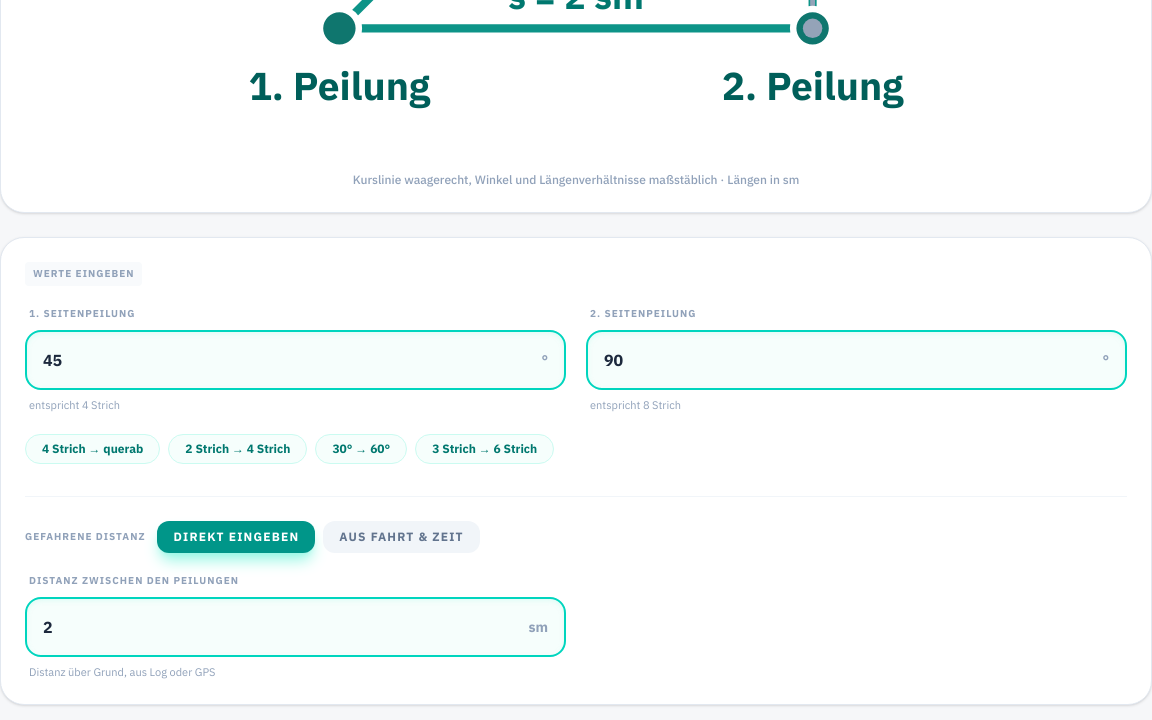
VersegelungRechner › Strich-Hinweis unter dem Feld folgt der Eingabe
(page scrolled)
Check: the text "entspricht 4 Strich" is shown, box [29, 398, 120, 412]
Replace the text in the number field labelled "1. Seitenpeilung" with "22.5" at (296, 360), box [27, 332, 564, 388]
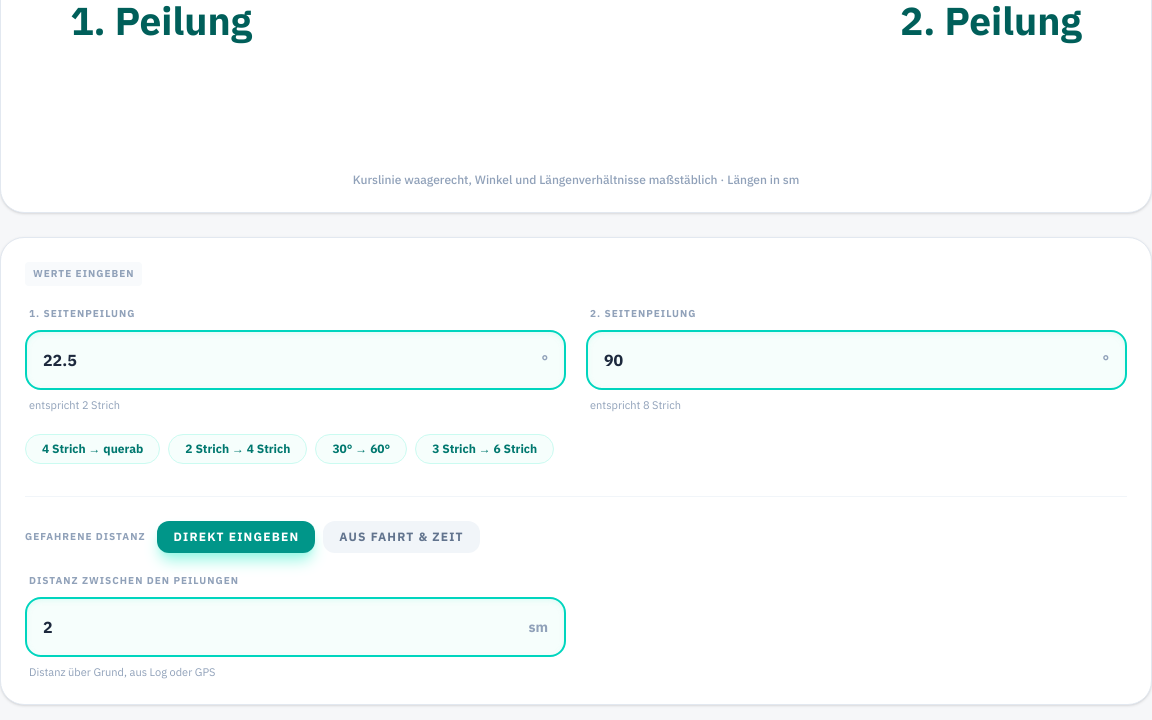
Check: the text "entspricht 2 Strich" is shown, box [29, 398, 120, 412]
